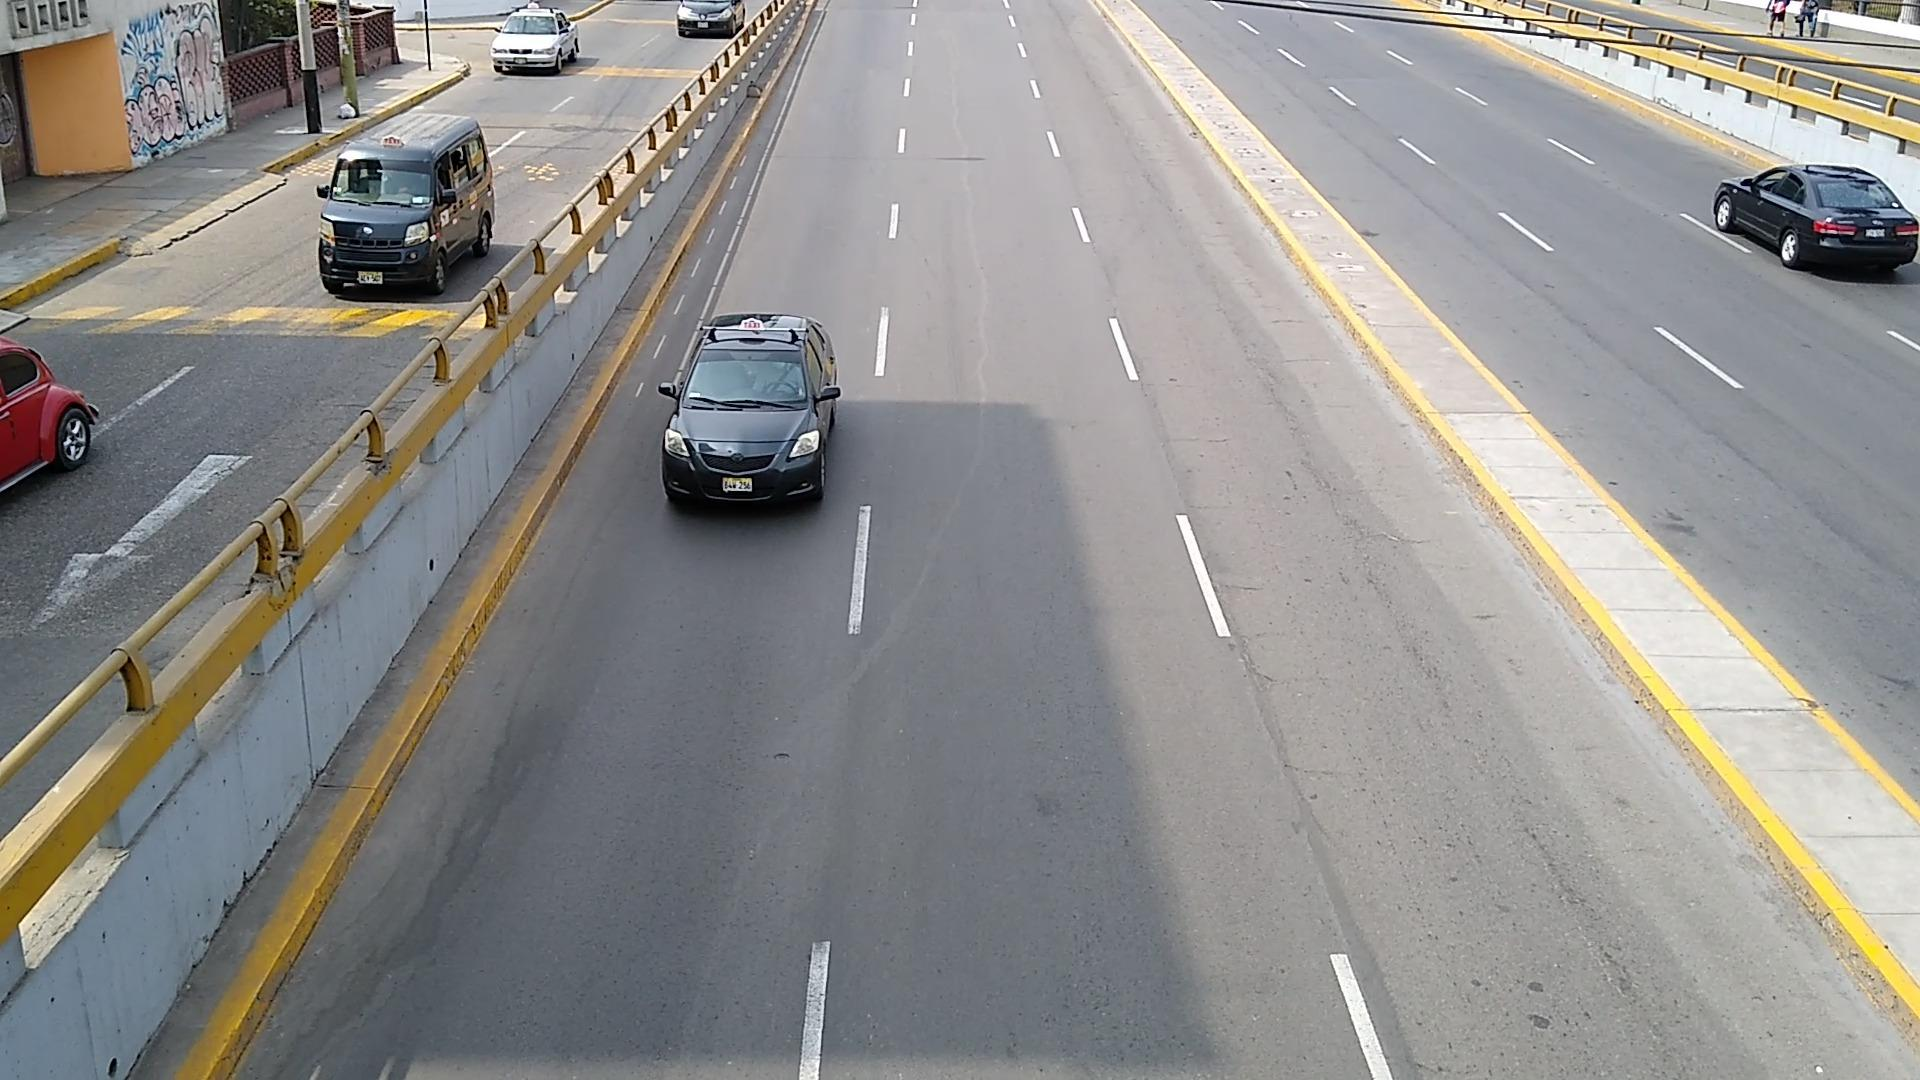car: (660, 311, 840, 502), (1714, 165, 1920, 268), (0, 338, 98, 489), (491, 8, 581, 75), (679, 0, 746, 38)
minivan: (315, 112, 495, 292)
